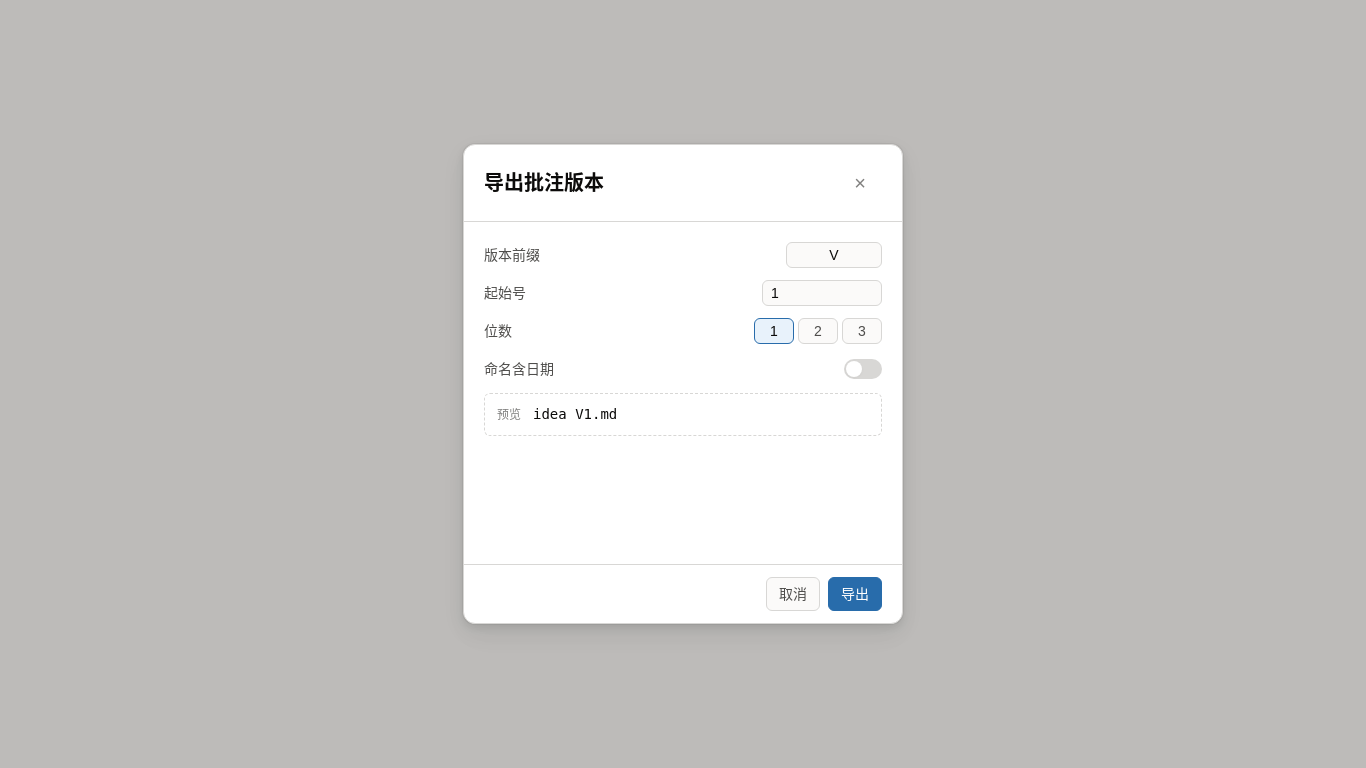
ReviewExportDialog › 两次写入都失败 → 失败态显示错误
Click the button "导出" at x=855, y=594, box x1=828 y1=577 x2=882 y2=611
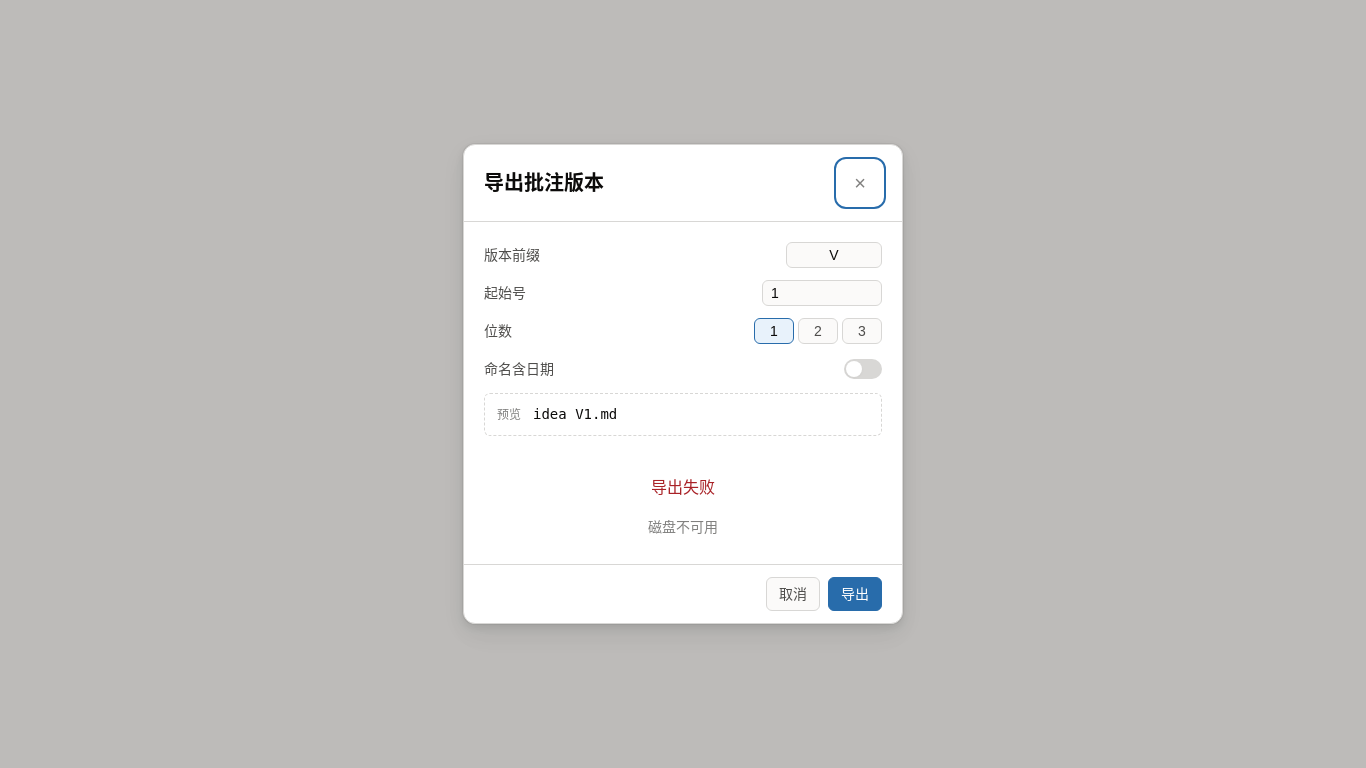
Expected: the text "导出失败" is shown, x1=651 y1=473 x2=715 y2=502
Expected: the text "磁盘不可用" is shown, x1=648 y1=514 x2=718 y2=539
